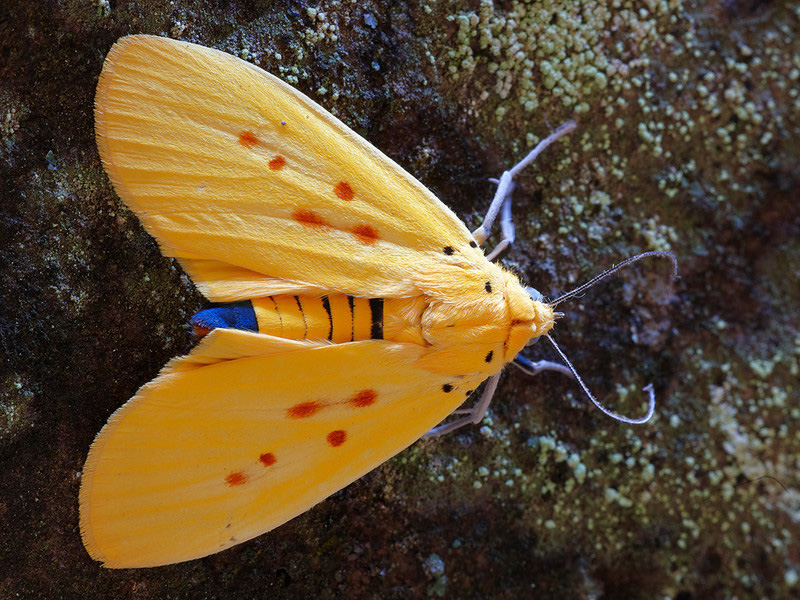Agape chloropyga: (70, 29, 671, 569)
moth: (72, 28, 673, 568)
